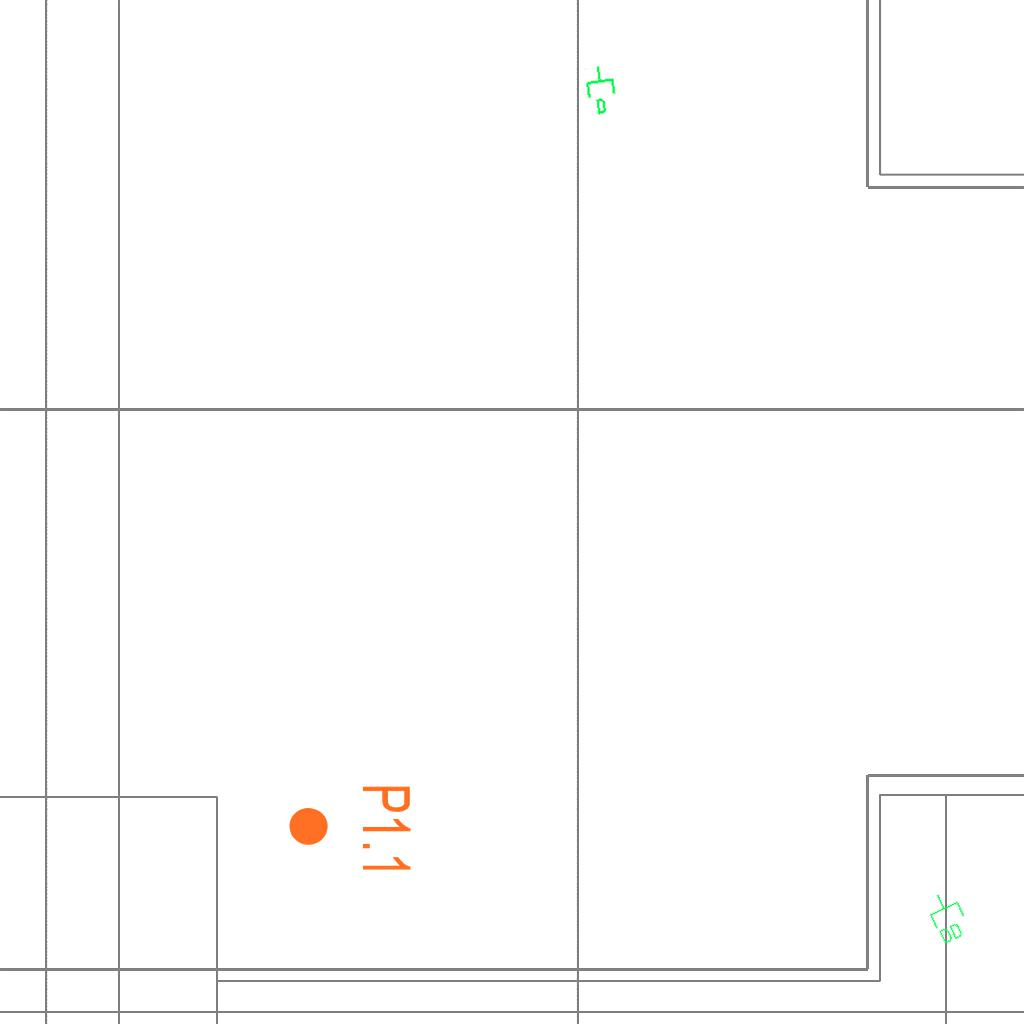Datenanschluss_einfach: (581, 62, 623, 118)
Datenanschluss_zweifach: (921, 886, 974, 948)
Downlight_LED_Einbauleuchten_Flur: (286, 783, 414, 876)
